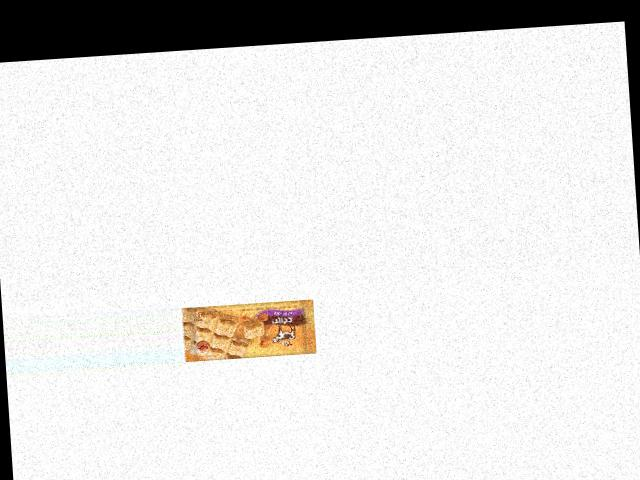chocolate: (181, 295, 320, 361)
